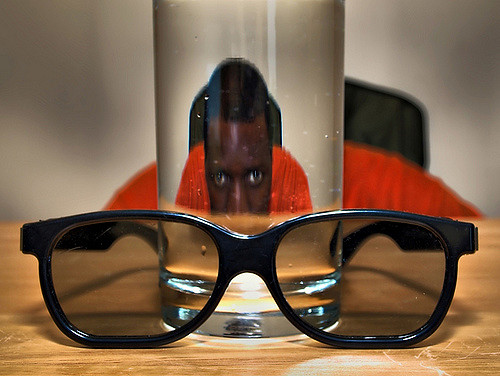glass of water: (159, 5, 348, 339)
